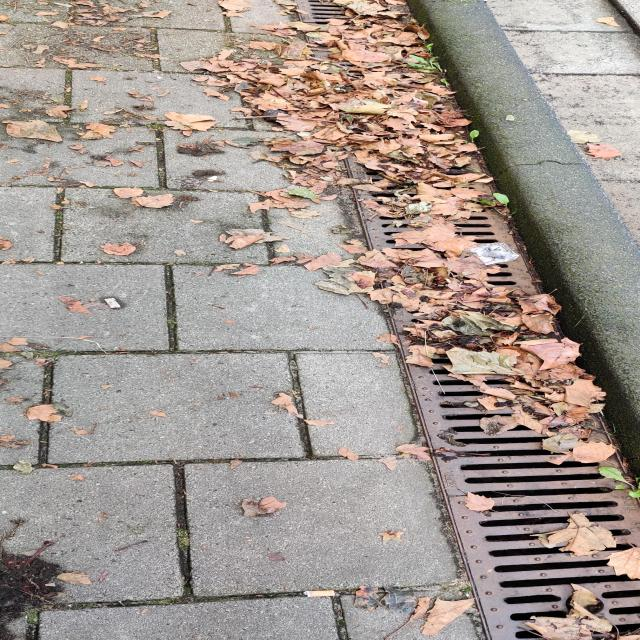litter: (467, 234, 531, 268)
